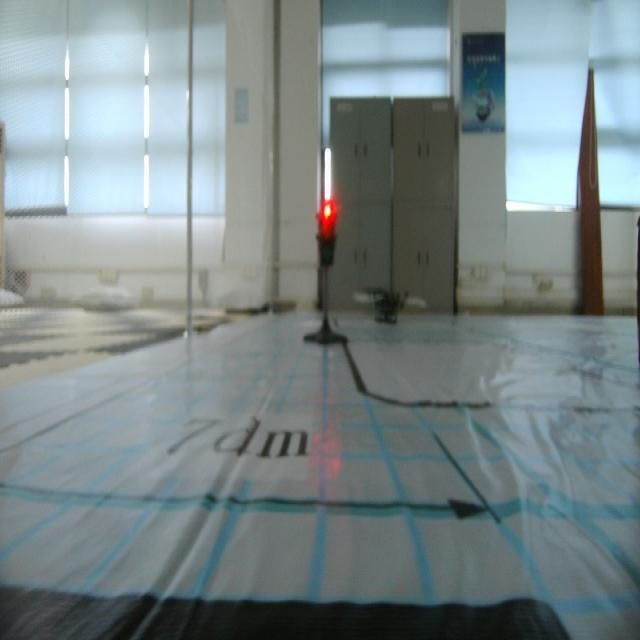red: (314, 201, 338, 274)
